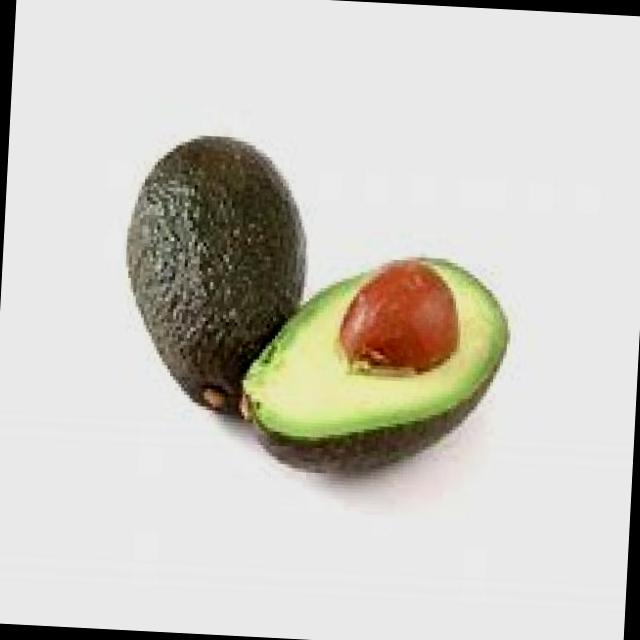avocado: (231, 238, 513, 491), (109, 125, 313, 422)
